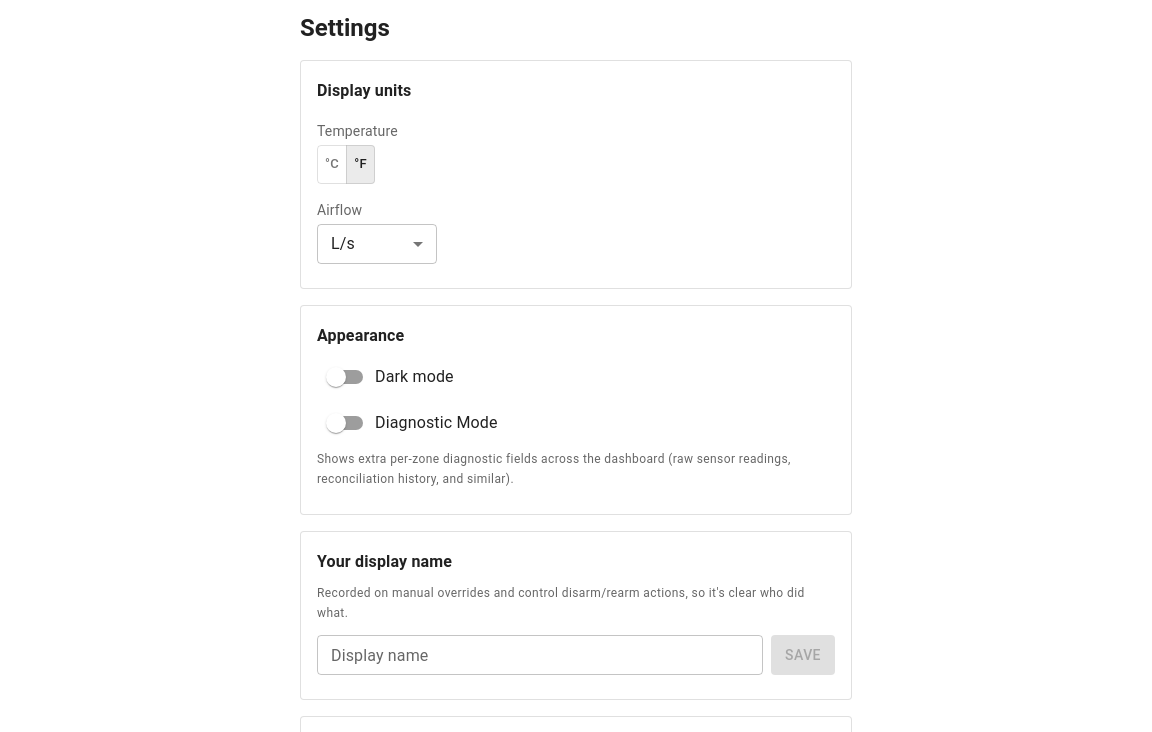
Test case: SettingsPage › saves an edited display name
Type "Martin" into the field labelled "Display name" at [540, 655], box [317,635,763,675]
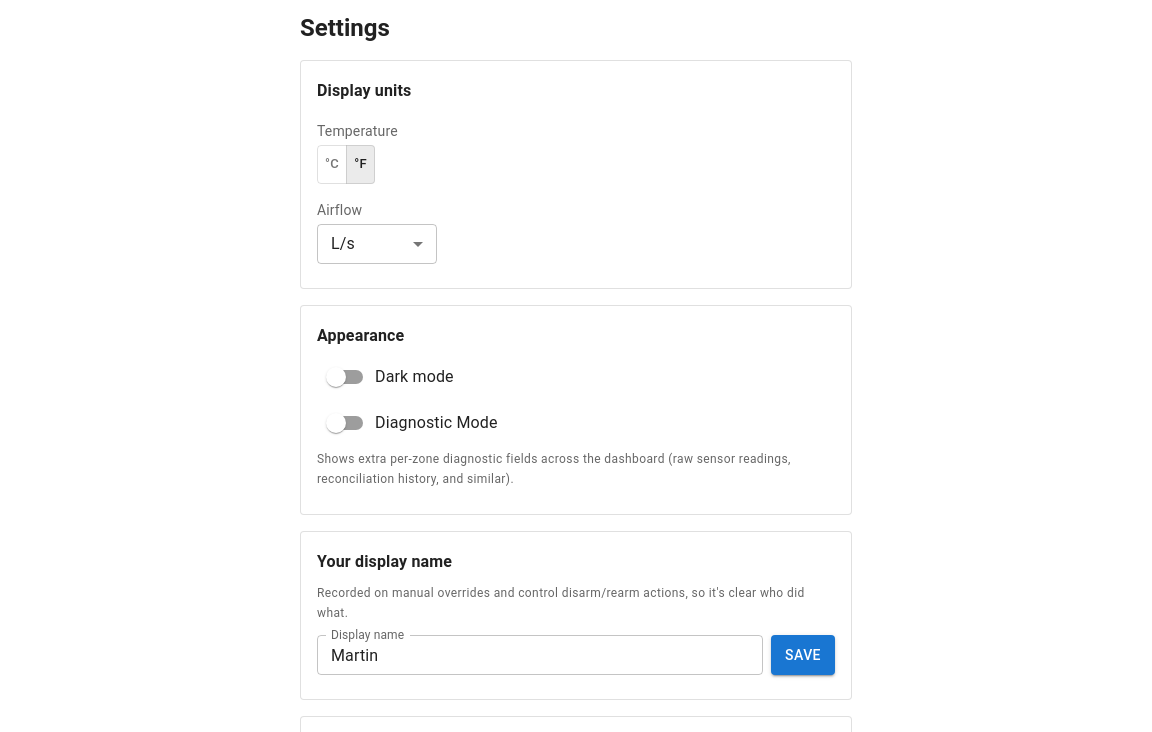
Check: the button "Save" is enabled
Click the button "Save" at [803, 655], box [771,635,835,675]
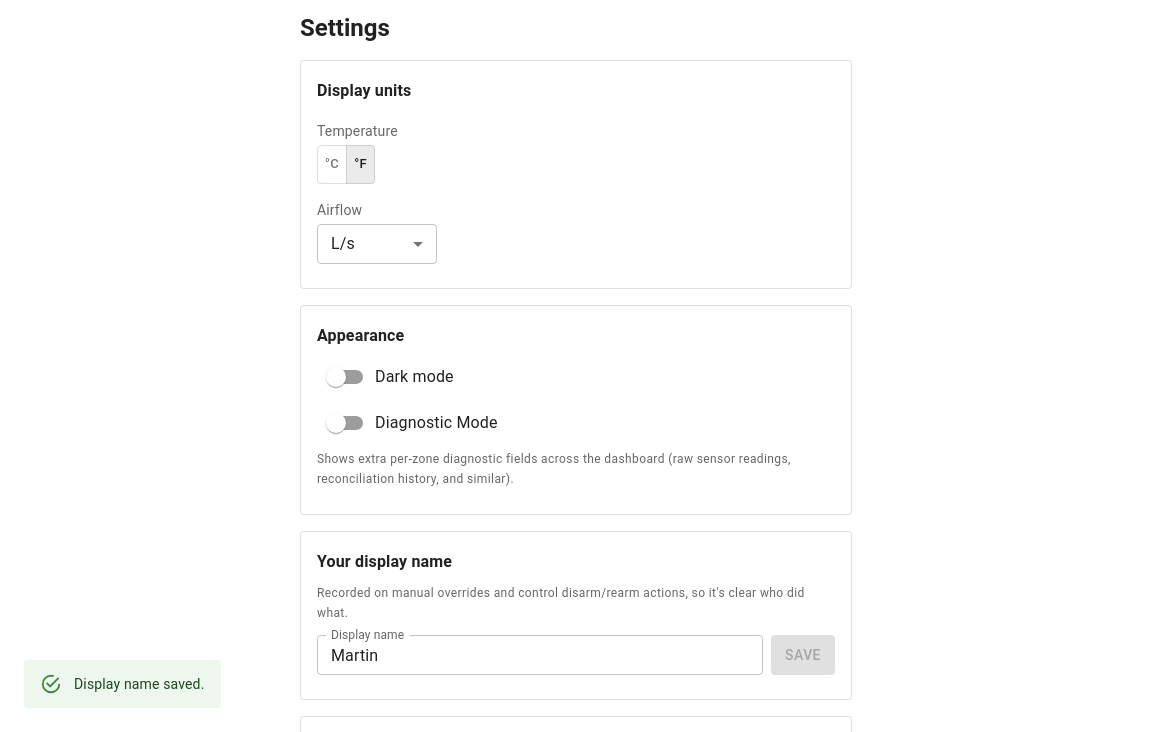
Check: the button "Save" is disabled, box [771,635,835,675]
